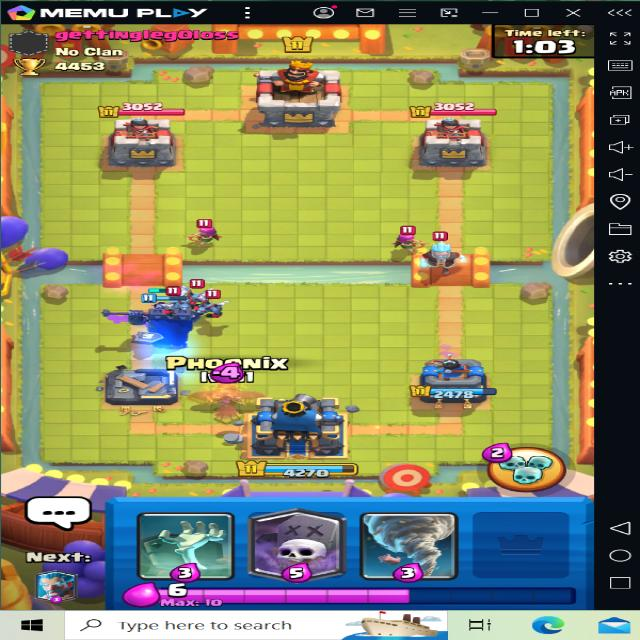archer: (177, 215, 229, 249), (390, 224, 422, 250)
ice-wizard: (420, 228, 470, 278)
minion: (196, 289, 232, 328), (159, 286, 194, 316), (176, 279, 206, 309)
